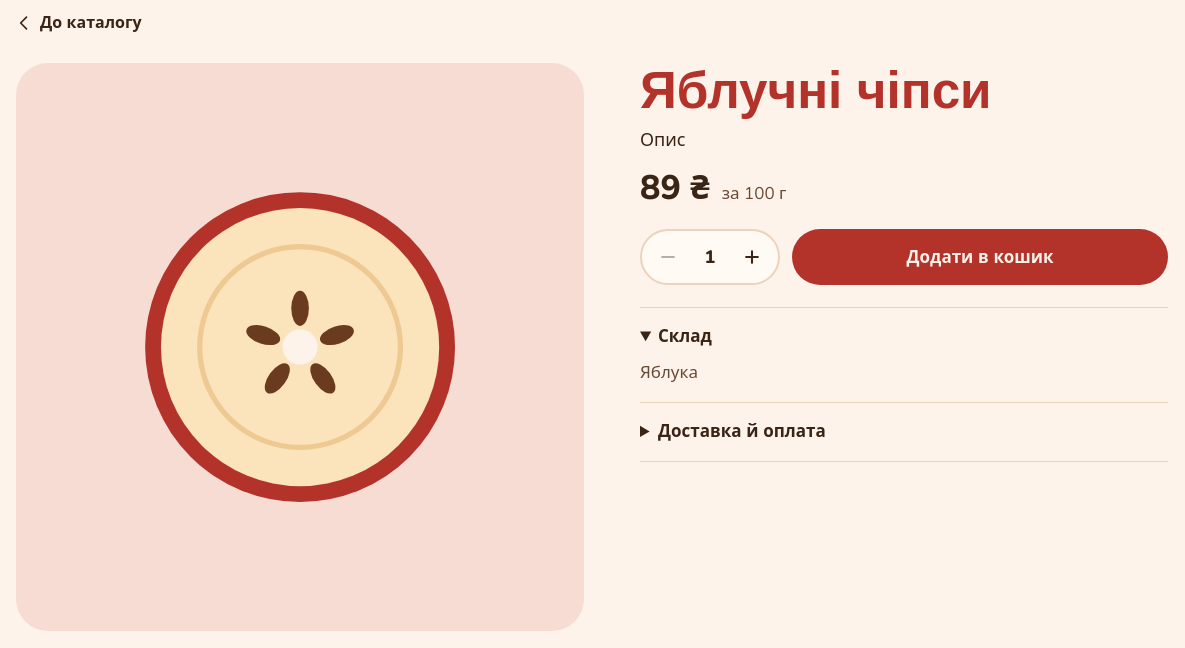
Test: "Додано до кошика" turns back into "Додати в кошик" when the item leaves the cart
This screenshot has width=1185, height=648.
Click the button "Додати в кошик".
click(980, 257)  # box [792,229,1168,285]
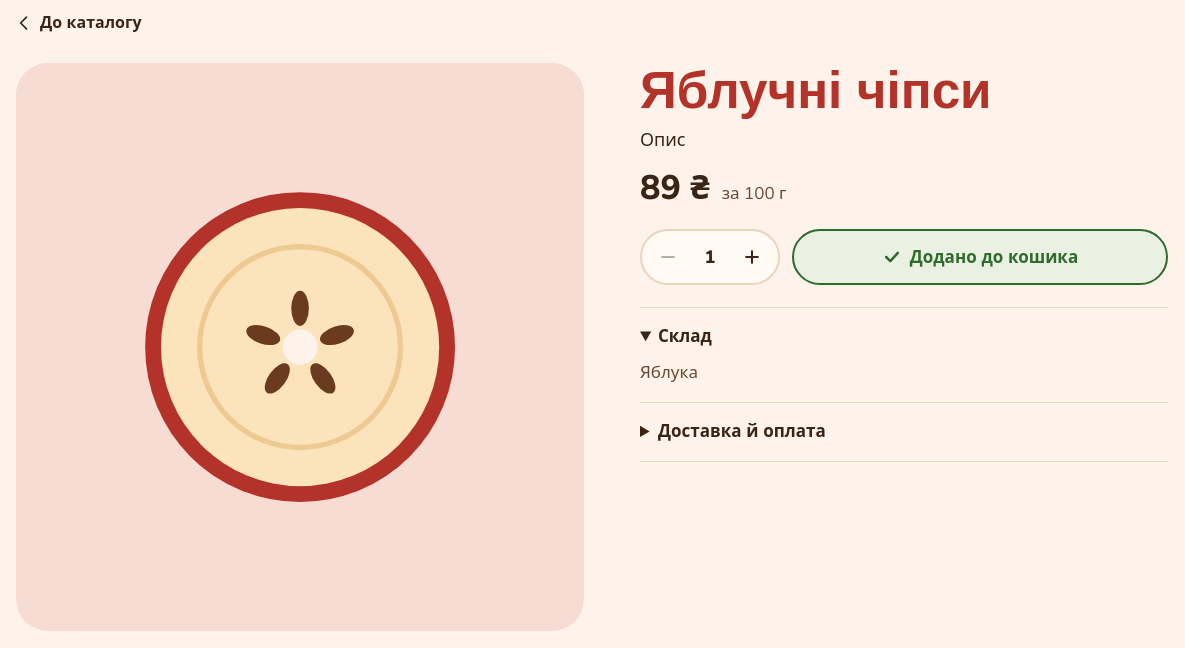
Click the button "Додано до кошика".
click(980, 257)  # box [792,229,1168,285]
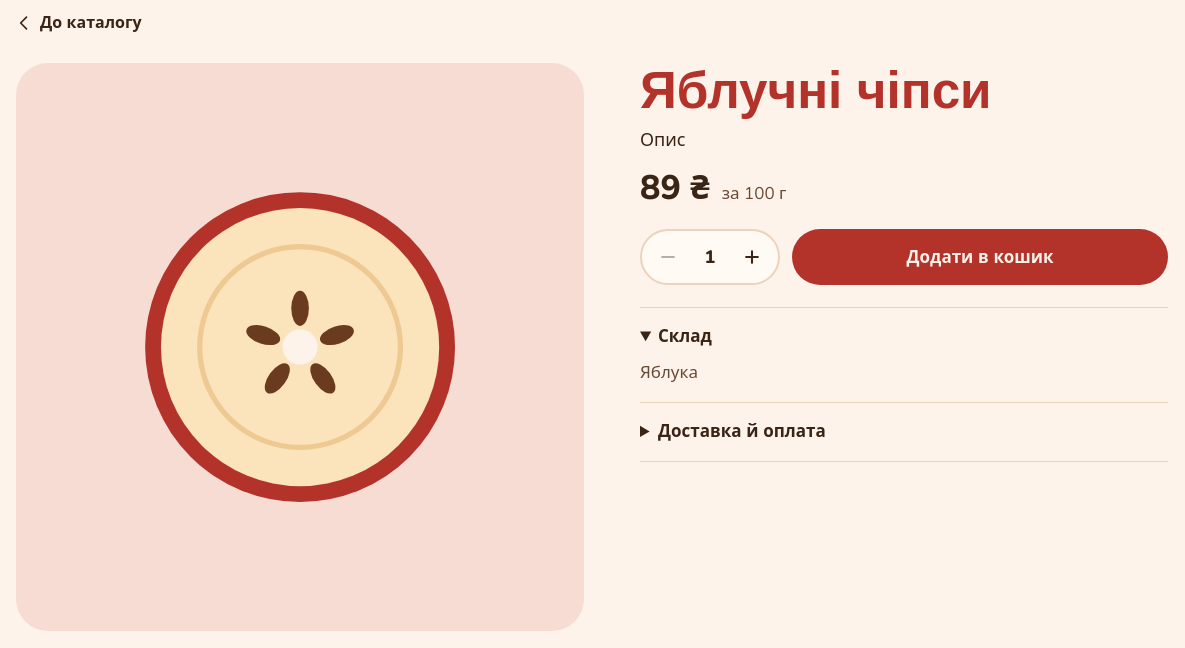
Result: the button "Додано до кошика" is gone
